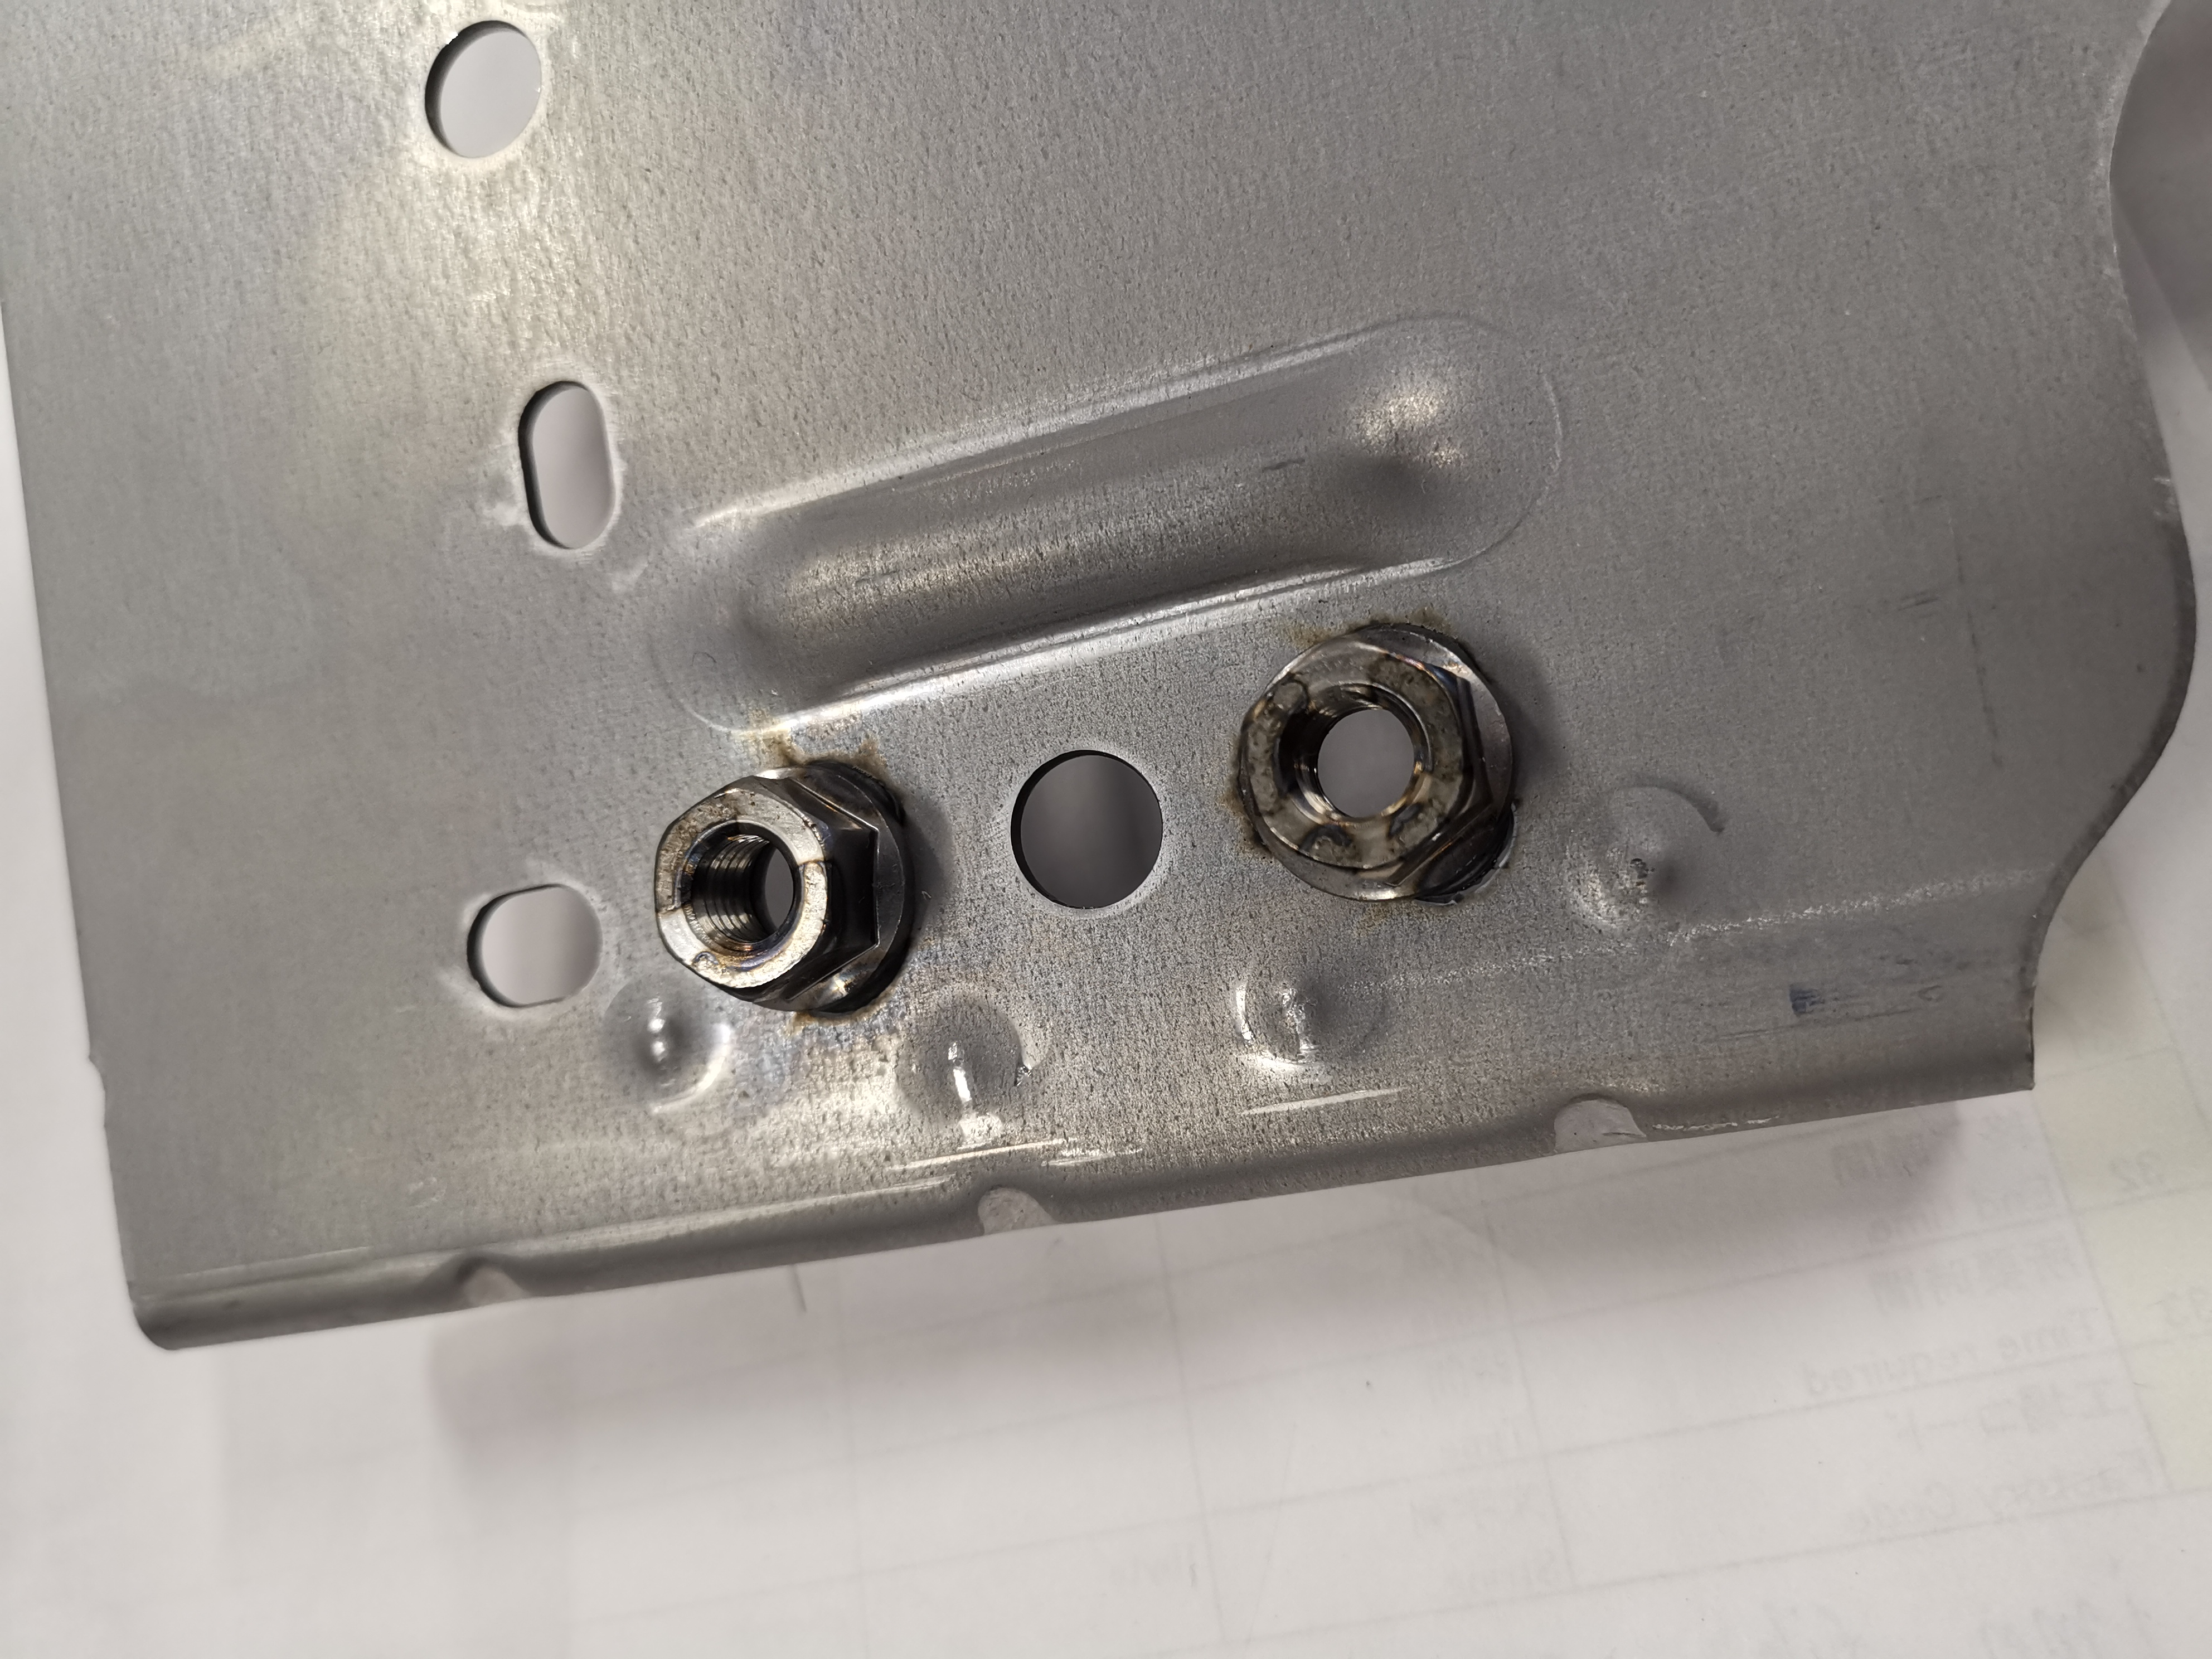dog: (1221, 613, 1526, 910), (643, 753, 925, 1025)
